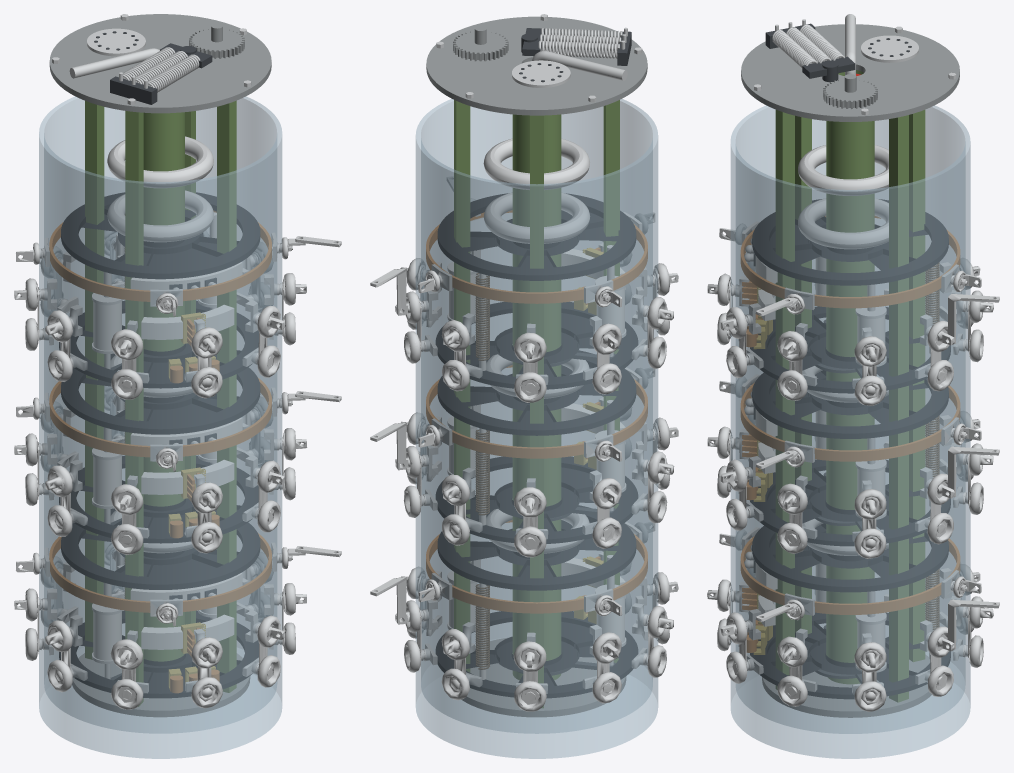
Rendered from cv2-insert.glb.
The picture shows the model from 3 angles, left to right: view 1: azimuth 30°, elevation 25°; view 2: azimuth 150°, elevation 25°; view 3: azimuth 270°, elevation 25°; orthographic projection.
Parts seen in each view (by area): view 1: comp, cv-terminal, ins-frame#3, ins-frame, ins-frame#1, out-term#1, ins-shaft, out-term, ins-ring#3, ins-ring#2, accum, main-contact (+15 smaller); view 2: comp, cv-terminal, ins-frame#3, ins-frame#1, ins-frame, ins-shaft, out-term#1, out-term, ins-ring#3, ins-ring#2, accum, accum#2 (+11 smaller); view 3: comp, cv-terminal, ins-frame#3, ins-frame, ins-frame#1, ins-shaft, out-term#1, out-term, ins-ring#3, ins-ring#2, accum, accum#2 (+13 smaller).
Part boxes in pixels (box(x1,y1,x2,y2)): comp: box(39, 96, 282, 758); cv-terminal: box(14, 230, 307, 709); ins-frame#3: box(59, 192, 260, 698); ins-frame: box(85, 100, 236, 706); ins-frame#1: box(49, 14, 271, 717); out-term#1: box(49, 210, 271, 612); ins-shaft: box(143, 112, 184, 661); out-term: box(16, 232, 341, 626); ins-ring#3: box(107, 136, 213, 188); ins-ring#2: box(107, 190, 213, 242); accum: box(119, 47, 200, 92); main-contact: box(141, 614, 234, 649); comp: box(415, 99, 658, 758); cv-terminal: box(370, 243, 678, 711); ins-frame#3: box(435, 193, 638, 698); ins-frame#1: box(426, 16, 647, 717); ins-frame: box(454, 100, 619, 708); ins-shaft: box(512, 114, 561, 680); out-term#1: box(426, 210, 647, 613); out-term: box(418, 176, 655, 616); ins-ring#3: box(483, 138, 589, 189); ins-ring#2: box(483, 192, 589, 243); accum: box(538, 27, 627, 58); accum#2: box(453, 26, 508, 61); comp: box(730, 105, 970, 758); cv-terminal: box(707, 258, 999, 711); ins-frame#3: box(750, 199, 950, 699); ins-frame: box(775, 110, 925, 702); ins-frame#1: box(741, 24, 959, 717); ins-shaft: box(826, 70, 874, 684); out-term#1: box(740, 216, 960, 614); out-term: box(719, 221, 981, 621); ins-ring#3: box(798, 145, 888, 195); ins-ring#2: box(798, 198, 888, 249); accum: box(772, 19, 844, 67); accum#2: box(823, 74, 877, 109).
Size of the model in its own units: 0.5938 by 1.45 by 0.5831.
